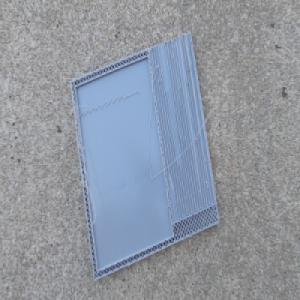PlasticPart: (67, 30, 222, 277)
